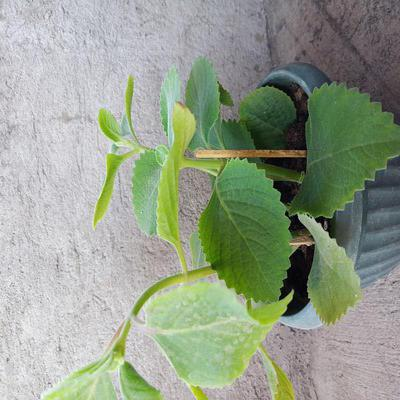Oregano: (92, 79, 349, 378)
